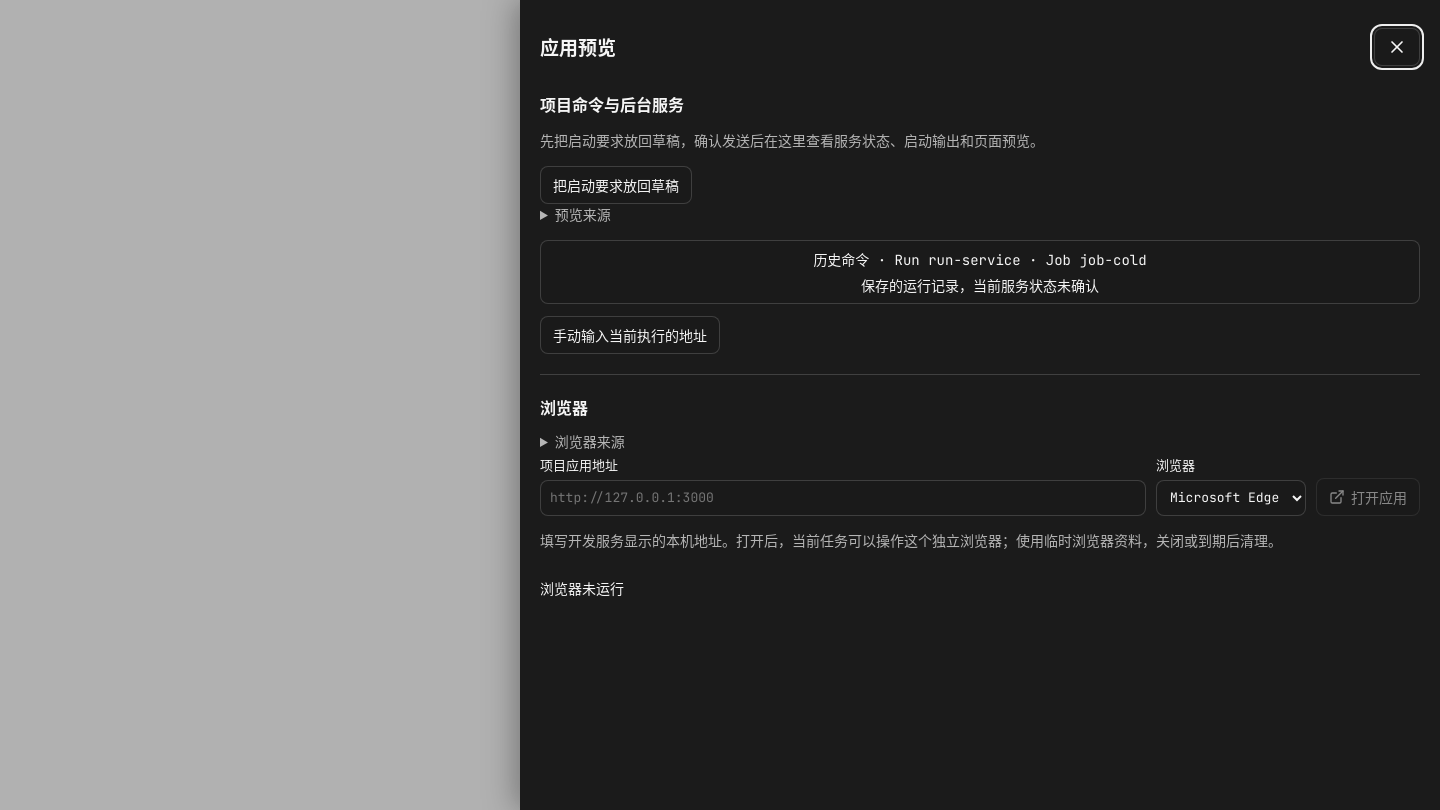
Test: keeps a cold running record unconfirmed and prevents using its saved address
The width and height of the screenshot is (1440, 810).
Click the button "历史命令 · Run run-service · Job job-cold 保存的运行记录，当前服务状态未确认".
click(841, 260)  # box [540, 240, 1420, 304]
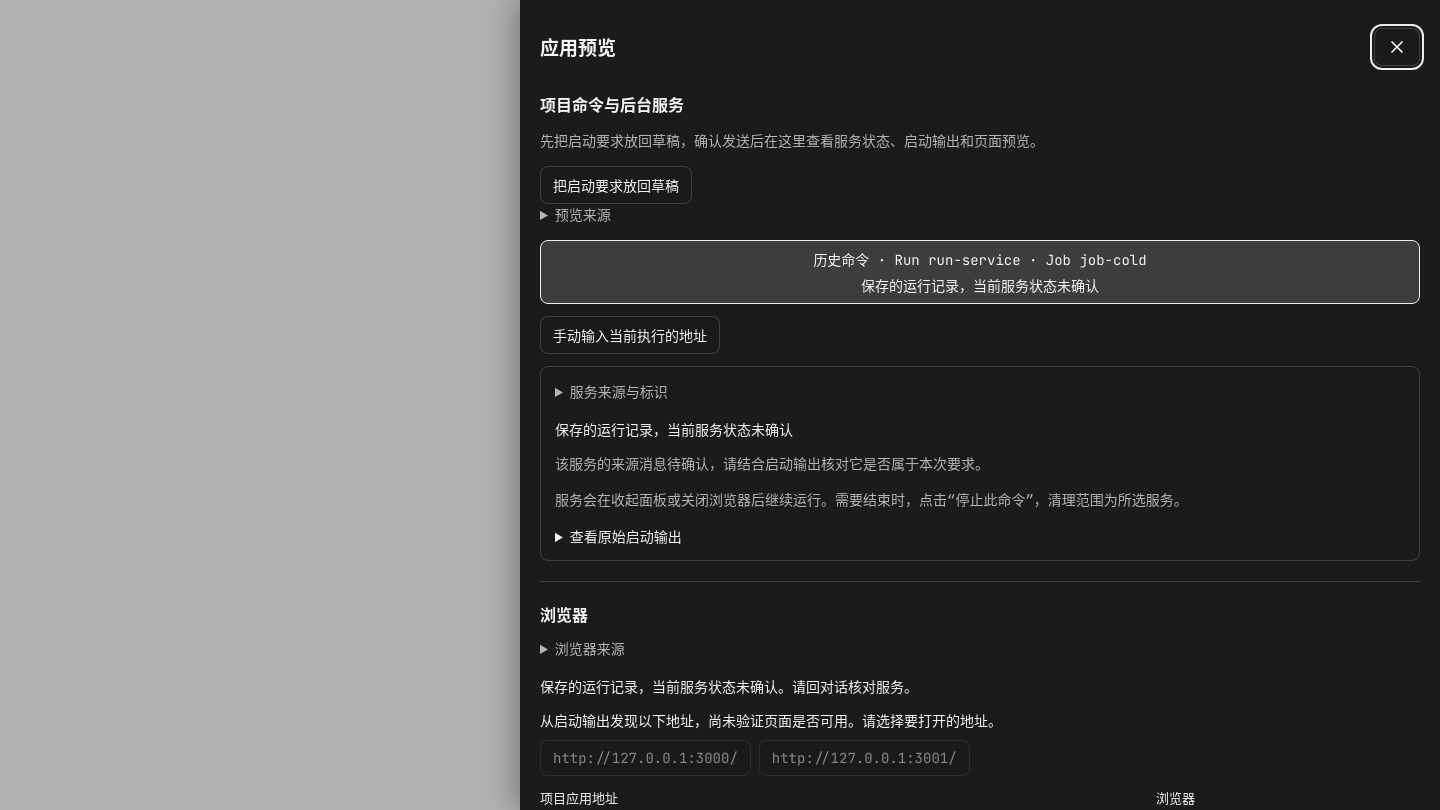
Expected: the button with aria-label "选择地址 http://127.0.0.1:3001/" is disabled, [759, 740, 970, 776]
Expected: the text "保存的运行记录，当前服务状态未确认" is shown, [555, 421, 793, 439]
